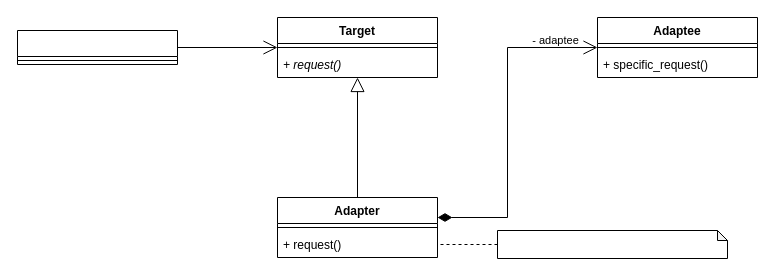
Image size: 775x278. Some labels were removed from this diagram. Here are the shapes that lost their labels. From the top down, the centre of each, then its label:
point 97,47: Client
point 612,244: return self.adaptee.specific_request()
